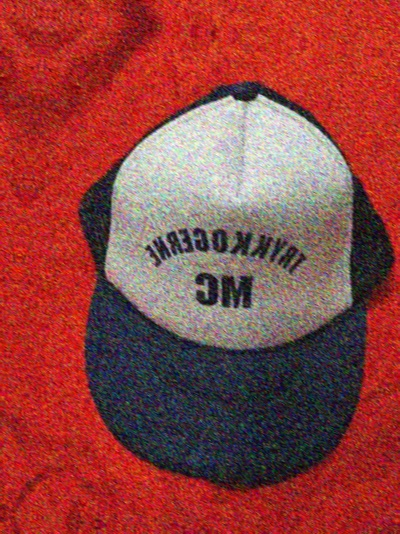Hat: (37, 44, 400, 498), (92, 0, 400, 35), (0, 0, 3, 448)
